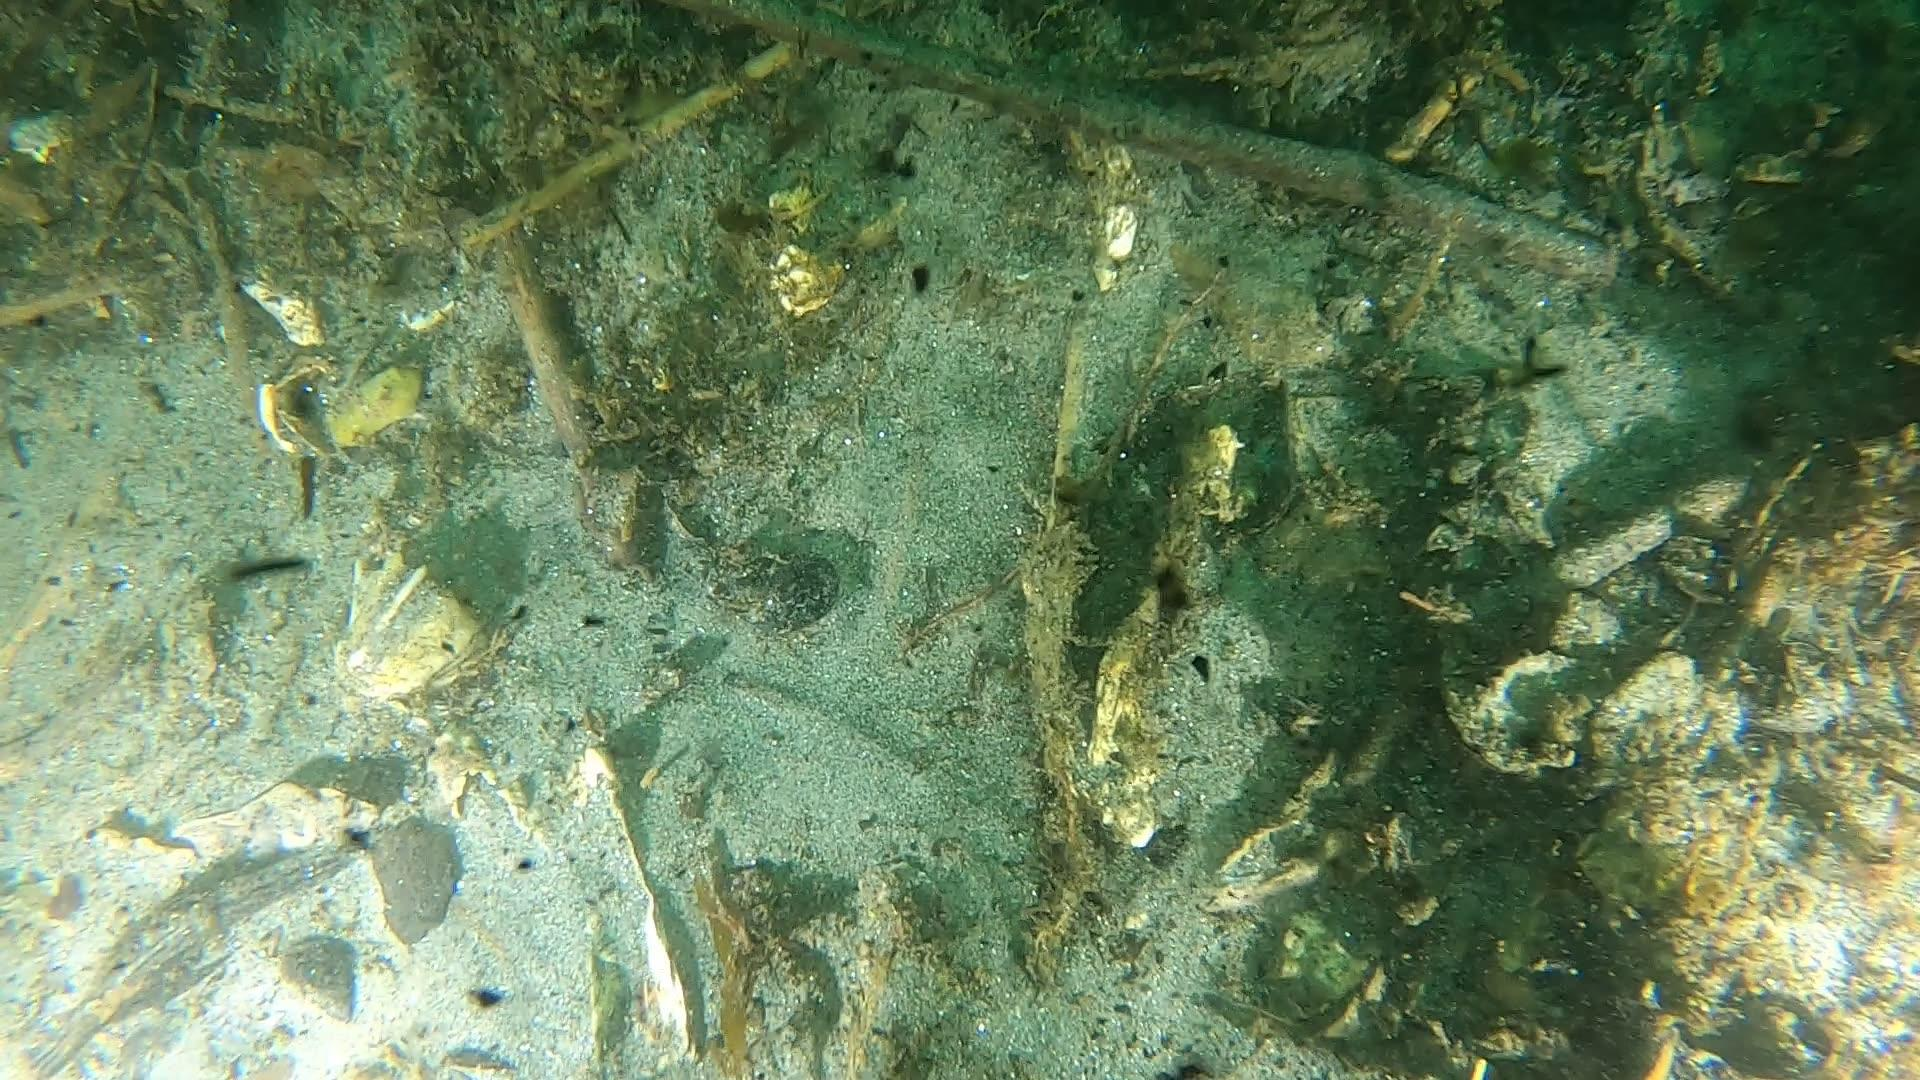wood: (709, 0, 1626, 278)
